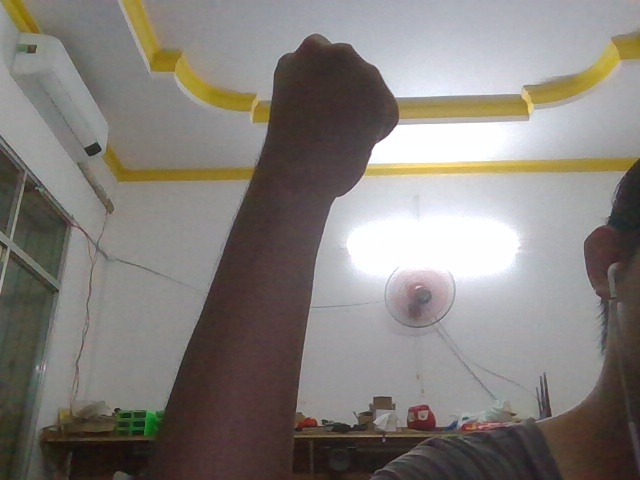fist: (232, 23, 406, 282)
